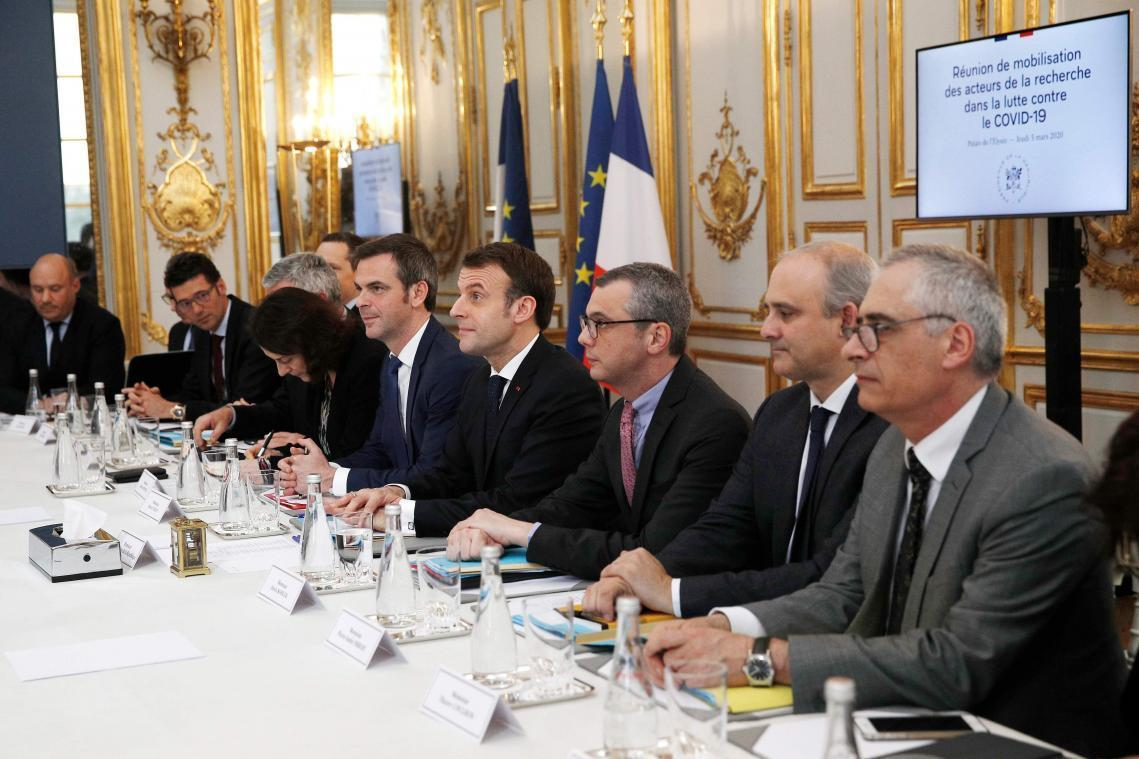without_mask: (848, 264, 975, 426), (757, 249, 844, 389), (575, 275, 671, 391), (450, 260, 545, 366), (350, 257, 430, 347), (253, 328, 320, 393), (171, 274, 231, 335), (25, 255, 79, 321)
